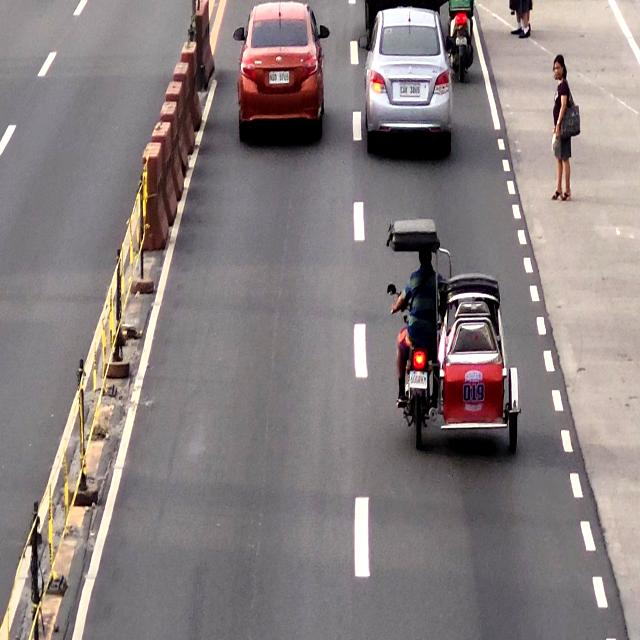Car: (232, 0, 328, 141), (366, 2, 451, 152)
License-Plate: (408, 368, 428, 391), (398, 80, 422, 98), (269, 68, 291, 84)
Tricycle: (387, 219, 525, 446)
